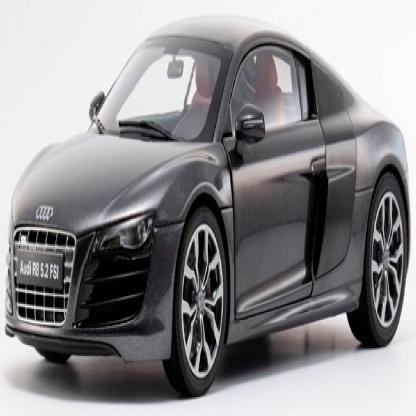Vehicle: (5, 20, 412, 402)
